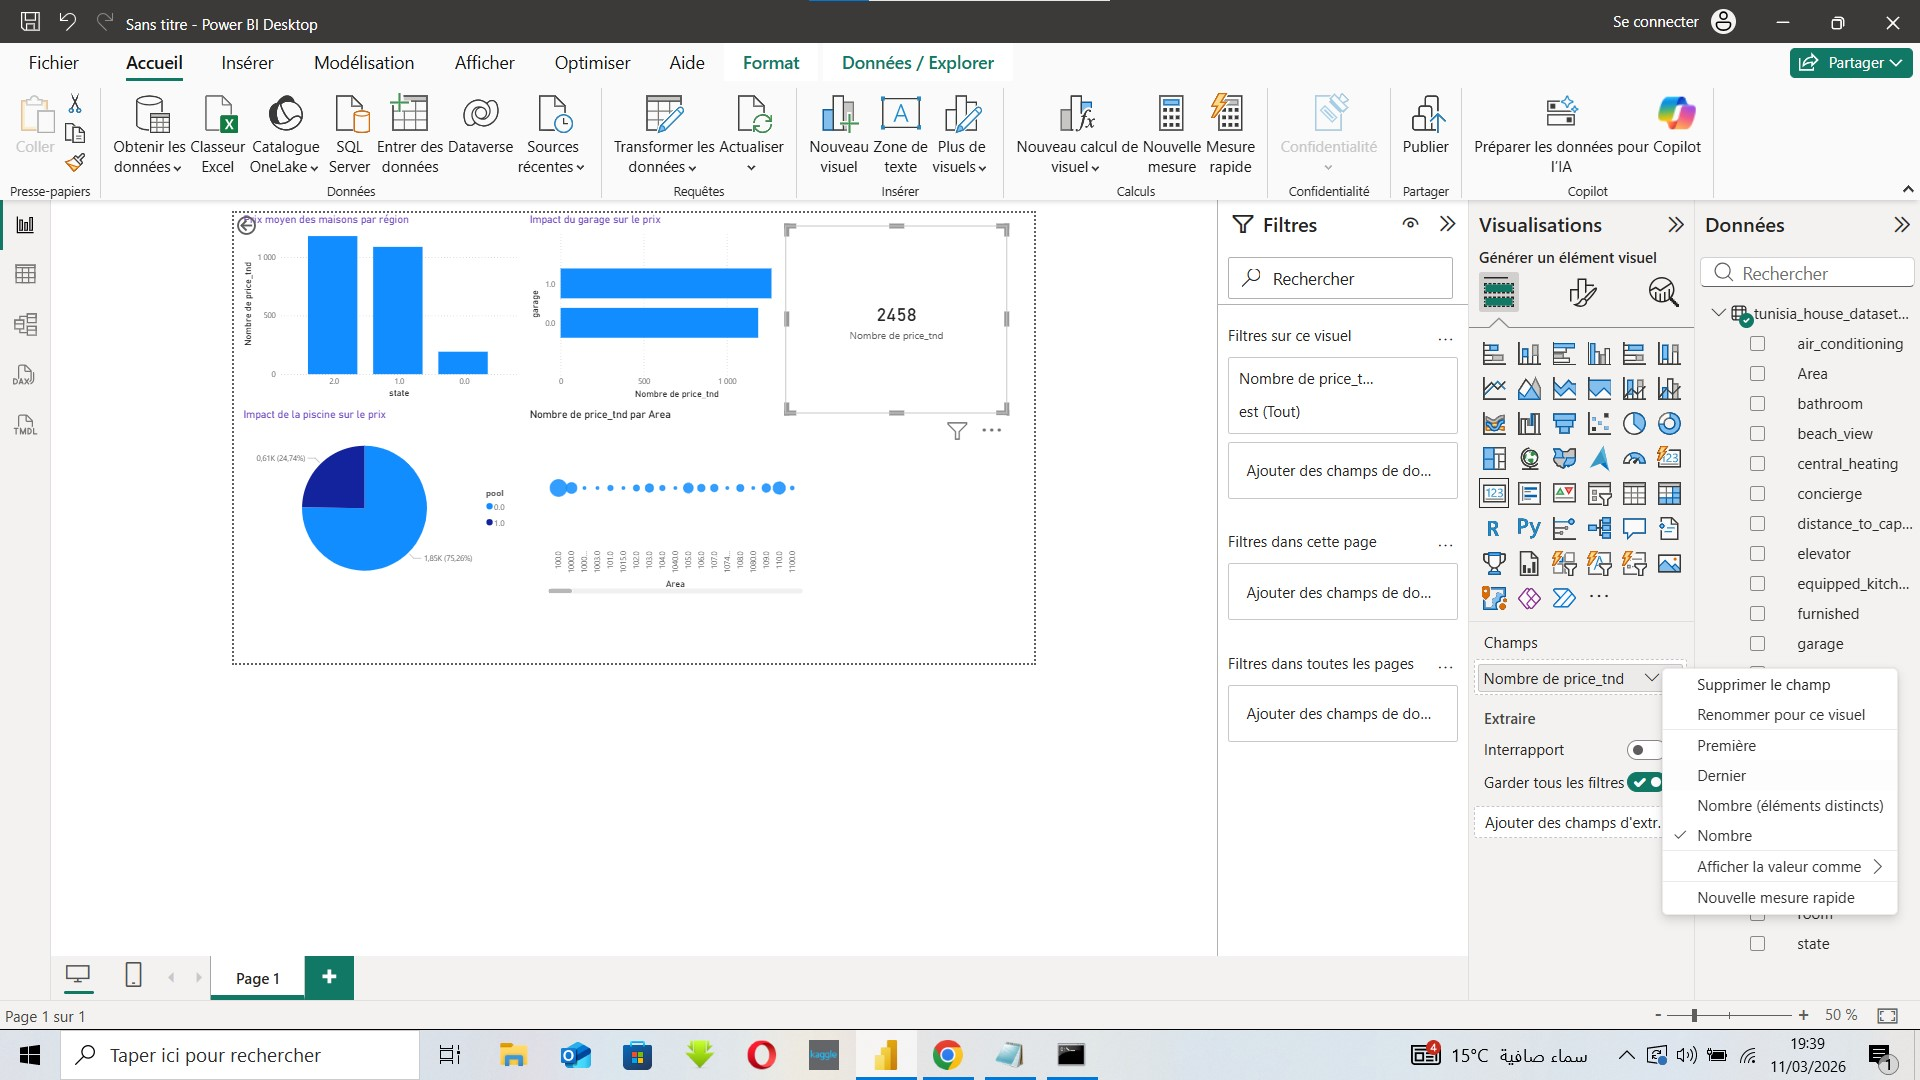

What the dashboard file says about the page in this screenshot:
{"tool":"powerbi","page":{"name":"Page 1","canvas":[1280,720],"ordinal":0},"visuals":[{"type":"clusteredColumnChart","title":"Prix moyen des maisons par région","fields":{"Category":["tunisia_house_dataset_clean.state"],"Y":["CountNonNull(tunisia_house_dataset_clean.price_tnd)"]},"box":[9.6,0,447.3,301.9],"z":0},{"type":"pieChart","title":"Impact de la piscine sur le prix","fields":{"Category":["tunisia_house_dataset_clean.pool"],"Y":["CountNonNull(tunisia_house_dataset_clean.price_tnd)"]},"box":[10,312,447,302],"z":1000},{"type":"clusteredBarChart","title":"Impact du garage sur le prix","fields":{"Category":["tunisia_house_dataset_clean.garage"],"Y":["CountNonNull(tunisia_house_dataset_clean.price_tnd)"]},"box":[467,0,447,302],"z":2000},{"type":"scatterChart","title":"Relation entre surface et prix","fields":{"X":["tunisia_house_dataset_clean.Area"],"Size":["CountNonNull(tunisia_house_dataset_clean.price_tnd)"]},"box":[467,312,447,302],"z":3000},{"type":"actionButton","box":[0,0,100,40],"z":4000}]}

Visuals, with their boxes on the page's 1280x720 design canvas (x1, y1, x2, y2). These are canvas units, not pixel positions in the 1920x1080 screenshot, which may show the page scaled, cropped or inside an application window:
"Prix moyen des maisons par région" clusteredColumnChart: pyautogui.locateOnScreen(10, 0, 457, 302)
"Impact de la piscine sur le prix" pieChart: pyautogui.locateOnScreen(10, 312, 457, 614)
"Impact du garage sur le prix" clusteredBarChart: pyautogui.locateOnScreen(467, 0, 914, 302)
"Relation entre surface et prix" scatterChart: pyautogui.locateOnScreen(467, 312, 914, 614)
actionButton: pyautogui.locateOnScreen(0, 0, 100, 40)
